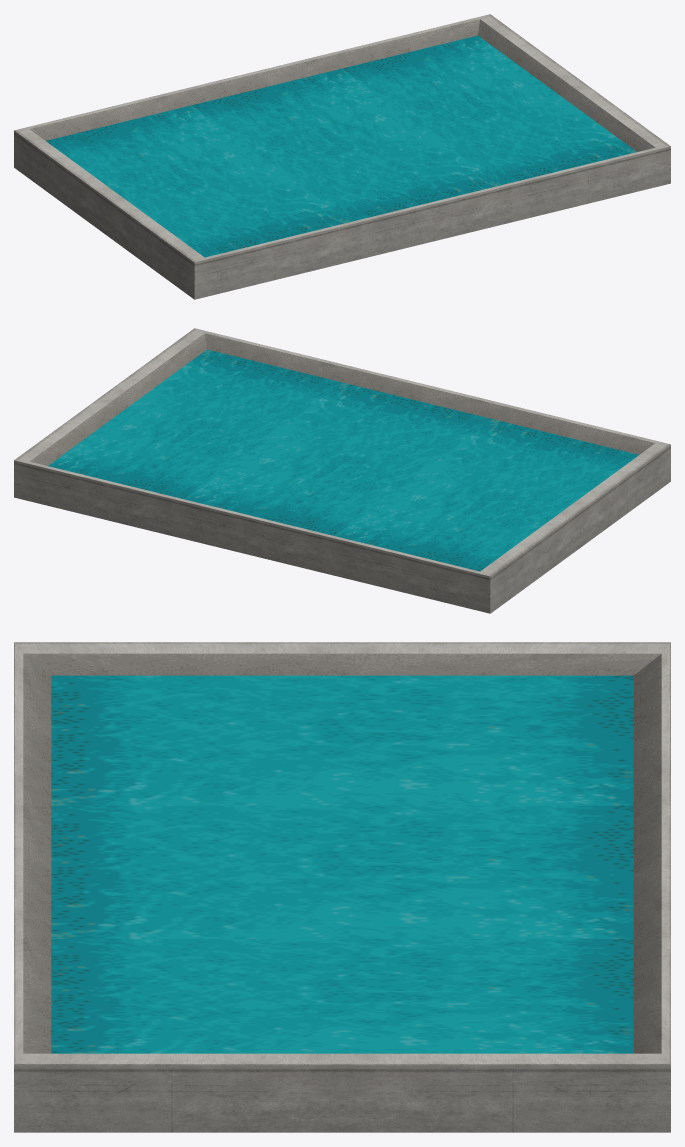
The model's file is pool_03.obj.
The picture shows the model from 3 angles, top to bottom: view 1: azimuth 30°, elevation 25°; view 2: azimuth 150°, elevation 25°; view 3: azimuth 270°, elevation 25°; orthographic projection. The views are drawn at different scales.
Visible parts, largest first — view 1: Box055; view 2: Box055; view 3: Box055.
Boxes of the visible parts, bbox=[...] form: Box055: bbox=[14, 14, 670, 299]; Box055: bbox=[14, 328, 670, 613]; Box055: bbox=[14, 642, 670, 1132].
Bounding box in the file's own units: 49.12 × 3.67 × 32.25.
